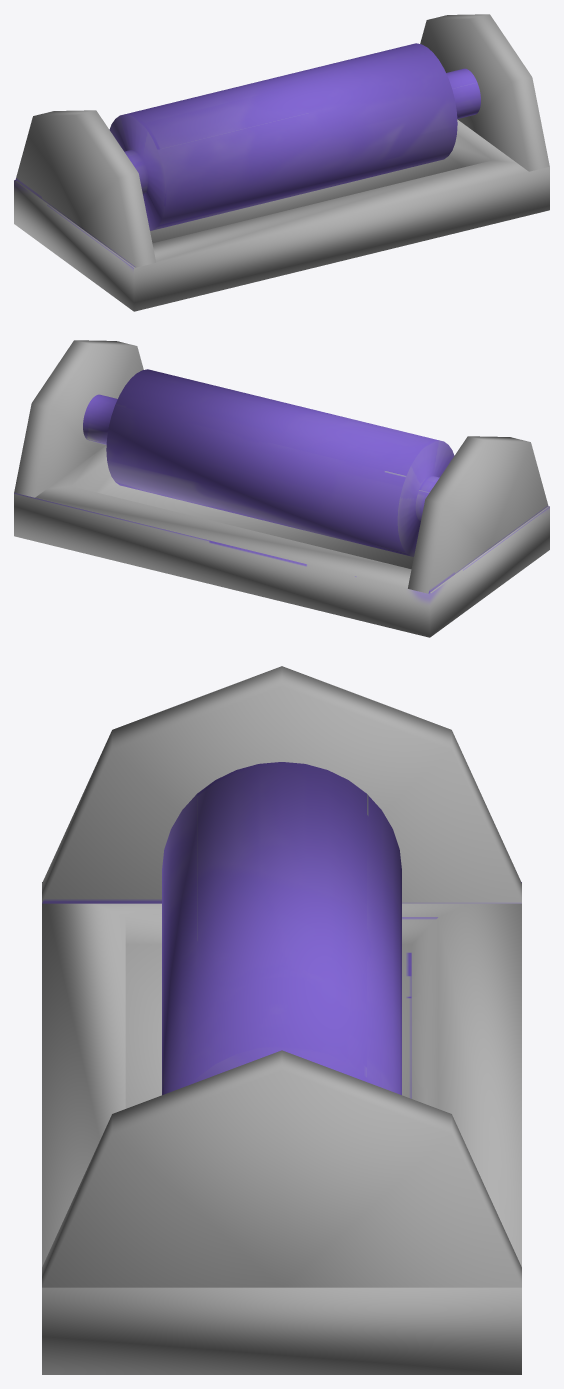
File: battery.fbx
3 views of the same model, one above another, from view 1: azimuth 30°, elevation 25°; view 2: azimuth 150°, elevation 25°; view 3: azimuth 270°, elevation 25° (orthographic). The views are drawn at different scales.
Parts seen in each view (by area): view 1: Cube; view 2: Cube; view 3: Cube.
Part boxes in pixels (x1,y1,x2,y2): Cube: (14, 14, 549, 311); Cube: (14, 340, 549, 637); Cube: (42, 666, 521, 1374).
Bounding box in the file's own units: 200 × 69.9 × 100.
